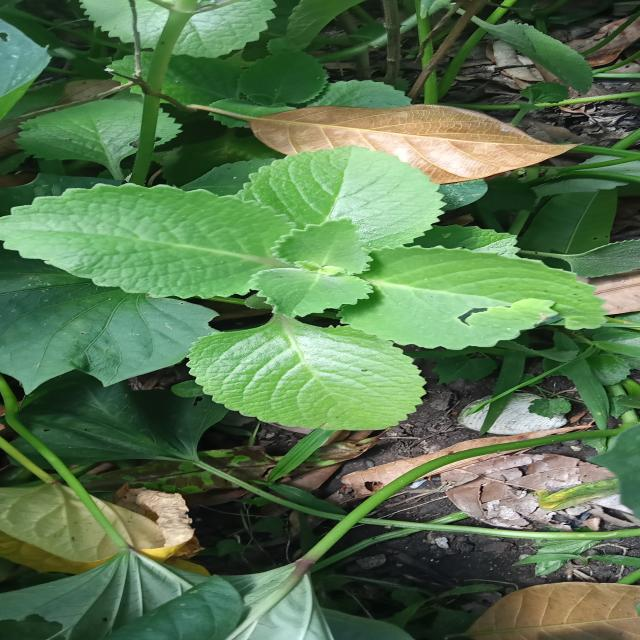Oregano: (29, 142, 619, 418)
